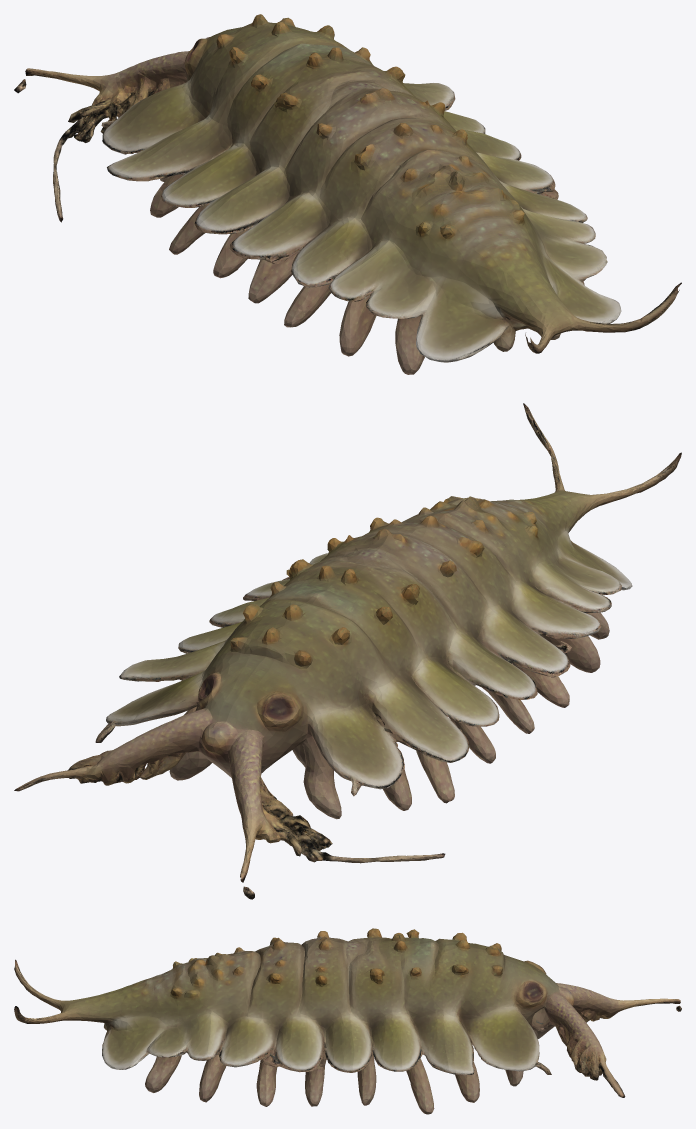
3 renders of one model, top to bottom at view 1: azimuth 30°, elevation 25°; view 2: azimuth 150°, elevation 25°; view 3: azimuth 270°, elevation 25°, orthographic. The views are drawn at different scales.
Visible parts, largest first — view 1: world; view 2: world; view 3: world.
Boxes of the visible parts, x1,y1,x2,y2 form: world: (14,14,681,374); world: (14,403,681,899); world: (14,928,681,1114).
Bounding box in the file's own units: 0.4362 × 0.2205 × 1.
Materials: 1 (1 with a texture image).
